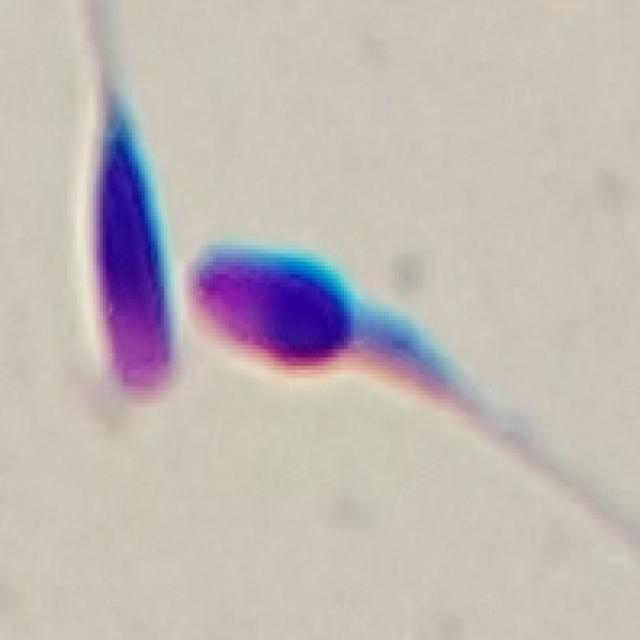abnormal sperm: (196, 223, 489, 453), (56, 13, 190, 415)
